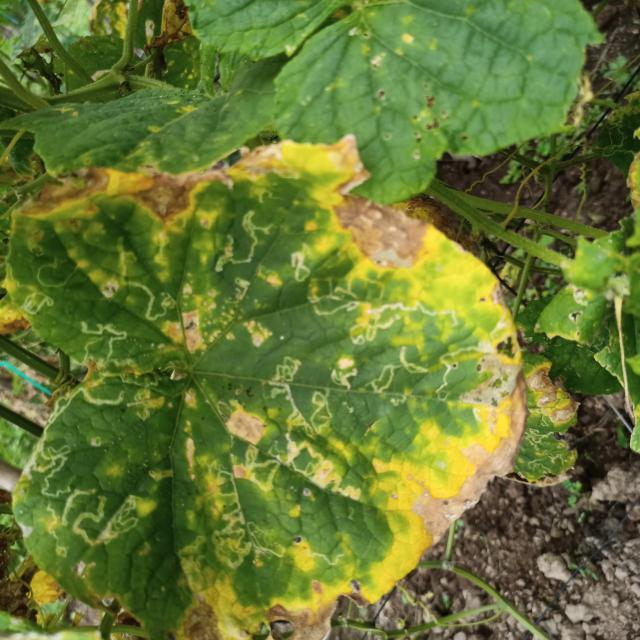disease_cucumber: (299, 182, 528, 609), (27, 132, 373, 260), (162, 530, 369, 640)
